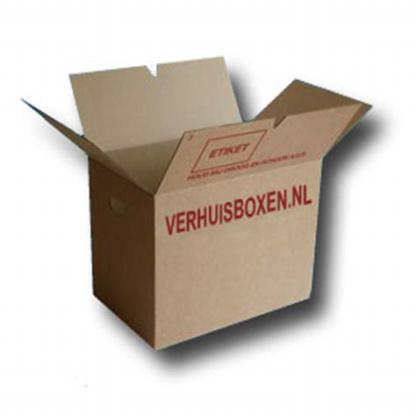box: (18, 52, 374, 355)
